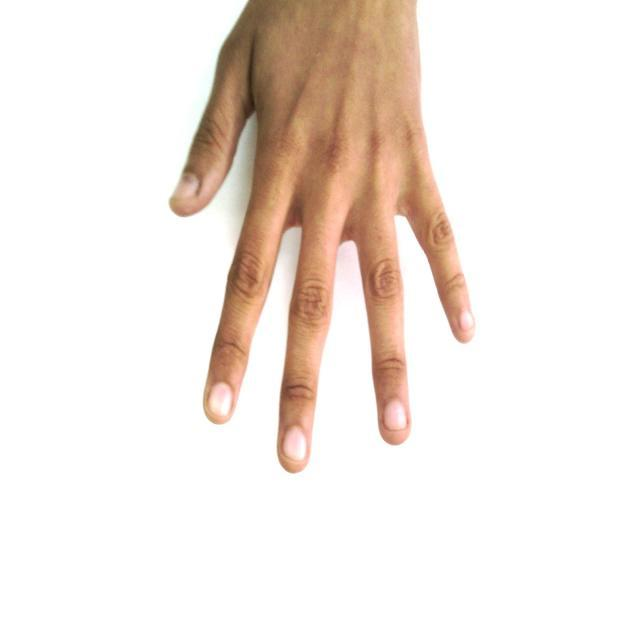Fingernail: (209, 383, 232, 417), (283, 427, 306, 460), (172, 174, 199, 202), (384, 400, 406, 429), (460, 311, 473, 330)
